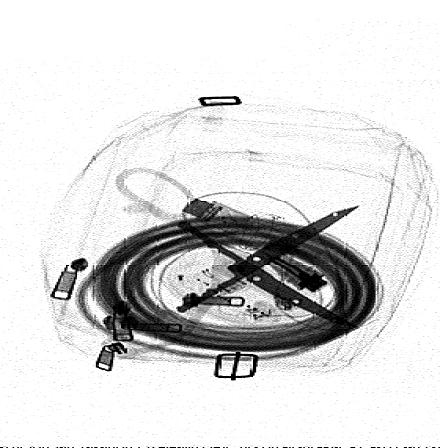Scissors: (92, 164, 366, 359)
